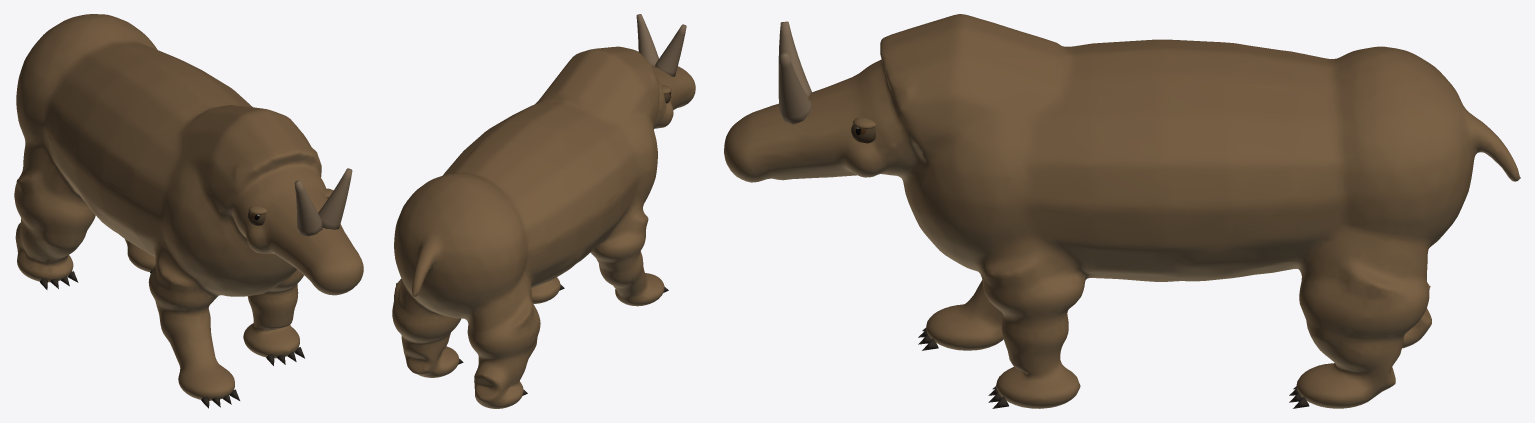
Rendered from CeratogaulusHatcheri.fbx.
The picture shows the model from 3 angles, left to right: view 1: azimuth 30°, elevation 25°; view 2: azimuth 150°, elevation 25°; view 3: azimuth 270°, elevation 25°; orthographic projection. The views are drawn at different scales.
Parts seen in each view (by area): view 1: CeratogaulusHatcheri; view 2: CeratogaulusHatcheri; view 3: CeratogaulusHatcheri.
Boxes of the visible parts, x1,y1,x2,y2 form: CeratogaulusHatcheri: (14,14,363,408); CeratogaulusHatcheri: (392,14,695,408); CeratogaulusHatcheri: (724,14,1520,408).
Bounding box in the file's own units: 0.3542 × 0.5979 × 1.22.
